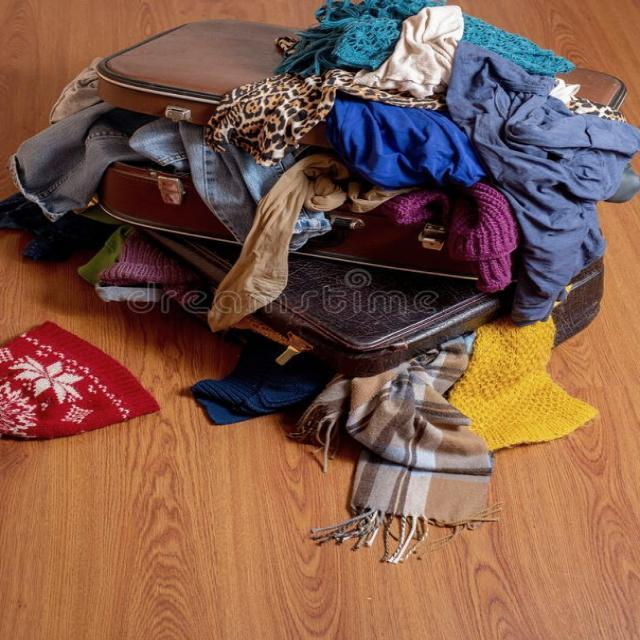clothes: (15, 8, 605, 550)
